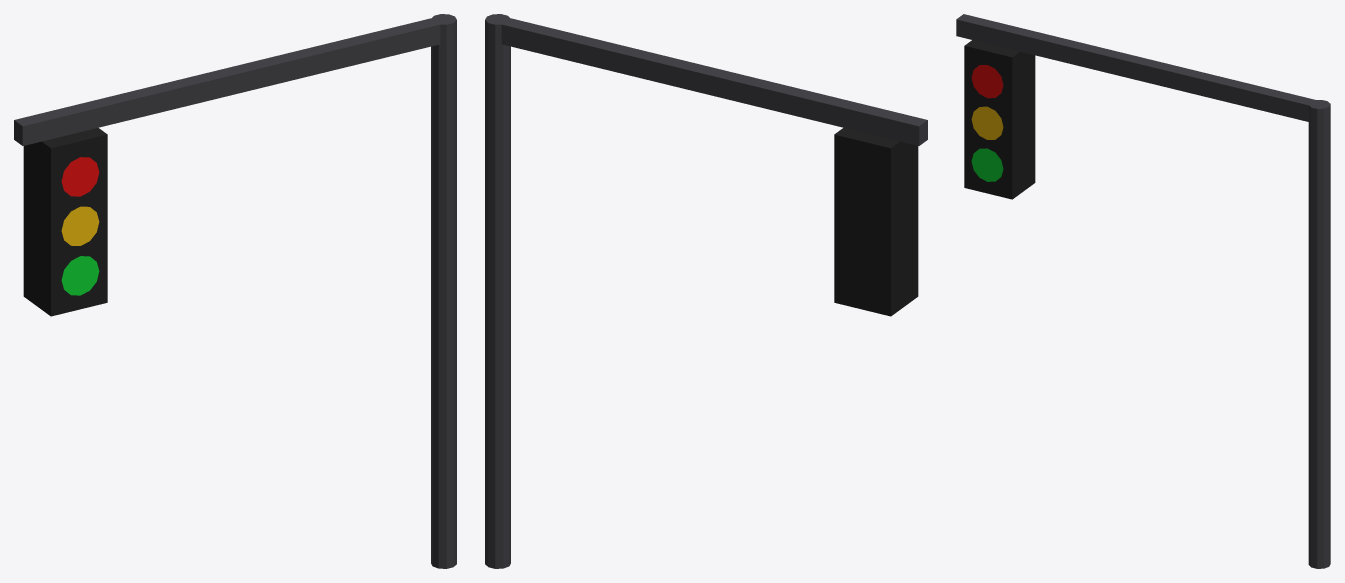
The model's file is semaforo.obj.
The picture shows the model from 3 angles, left to right: view 1: azimuth 30°, elevation 25°; view 2: azimuth 150°, elevation 25°; view 3: azimuth 330°, elevation 25°; orthographic projection. The views are drawn at different scales.
Visible parts, largest first — view 1: poste, caja, luz_amarilla, luz_roja, luz_verde; view 2: poste, caja; view 3: poste, caja, luz_verde, luz_amarilla, luz_roja.
Part boxes in pixels (x1,y1,x2,y2): poste: (14, 14, 456, 568); caja: (23, 127, 107, 316); luz_amarilla: (61, 206, 99, 245); luz_roja: (61, 157, 99, 196); luz_verde: (61, 256, 99, 295); poste: (485, 14, 927, 568); caja: (834, 127, 918, 316); poste: (956, 14, 1330, 568); caja: (964, 40, 1035, 199); luz_verde: (971, 148, 1003, 181); luz_amarilla: (971, 106, 1003, 139); luz_roja: (971, 65, 1003, 98).
Bounding box in the file's own units: 4.62 × 5.5 × 0.52.
